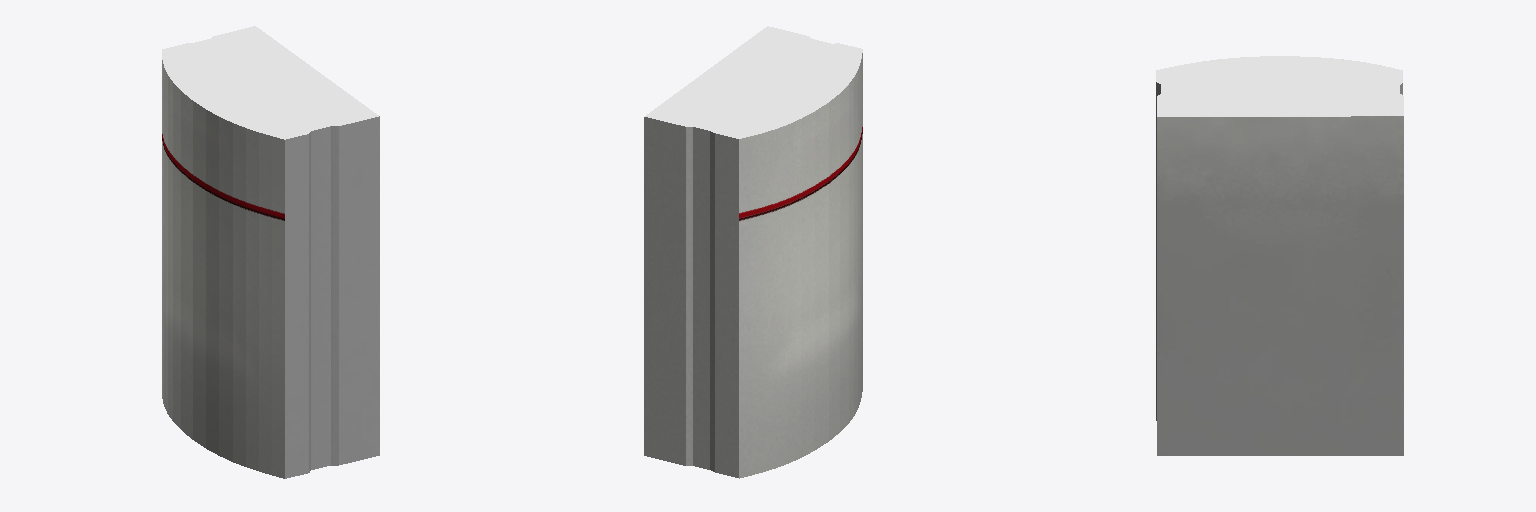
3 renders of one model, left to right at view 1: azimuth 30°, elevation 25°; view 2: azimuth 150°, elevation 25°; view 3: azimuth 270°, elevation 25°, orthographic.
Visible parts, largest first — view 1: Line02; view 2: Line02; view 3: Line02.
Boxes of the visible parts, box(x1,y1,x2,y2) form: Line02: box(162, 26, 379, 478); Line02: box(644, 26, 862, 478); Line02: box(1156, 56, 1403, 455).
Bounding box in the file's own units: 9.21 × 24.05 × 15.92.
Materials: 1 (1 with a texture image).